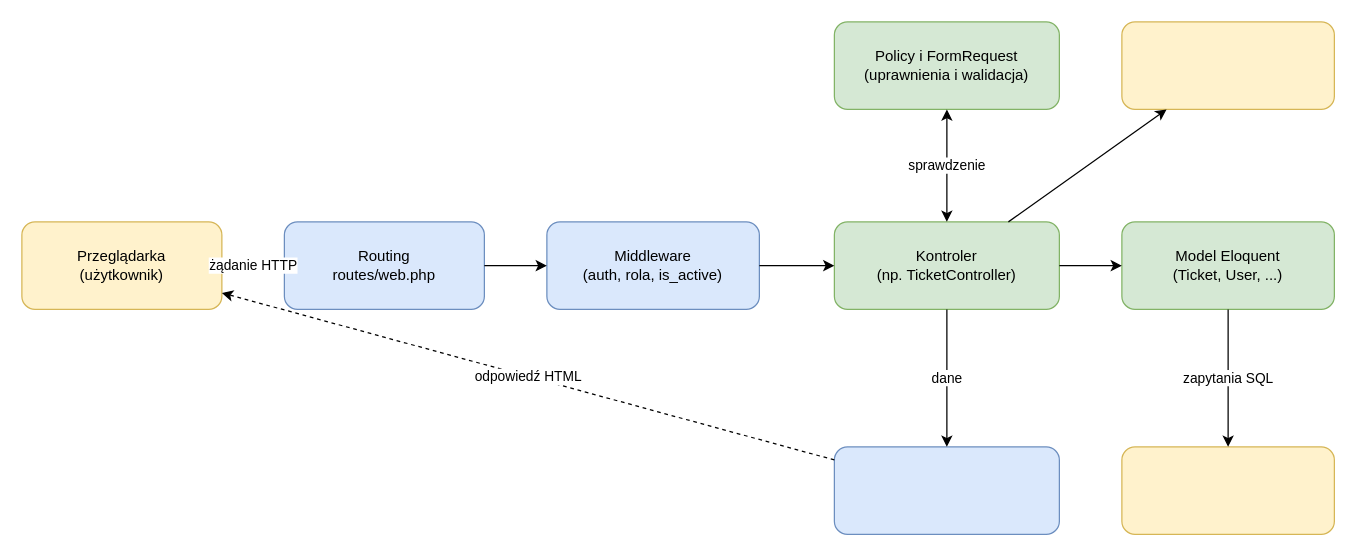
This 1356x556 diagram has some shape labels left out. Each missing label, with the centre of its shape:
"Baza danych MySQL" goes at point 1227,490.
"Mail i Storage (powiadomienia, załączniki)" goes at point 1227,65.
"Widok Blade + Bootstrap 5" goes at point 946,490.
